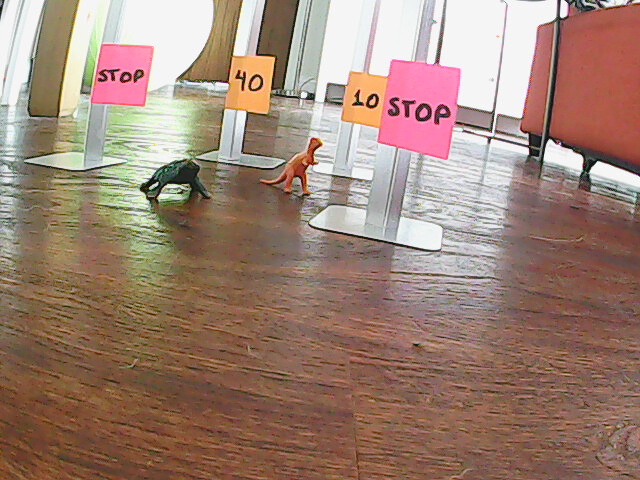10: (346, 77, 383, 122)
40: (230, 61, 271, 110)
dinosaur: (257, 129, 325, 203)
stop: (383, 67, 454, 139), (96, 54, 148, 102)
turtle: (132, 154, 214, 206)
